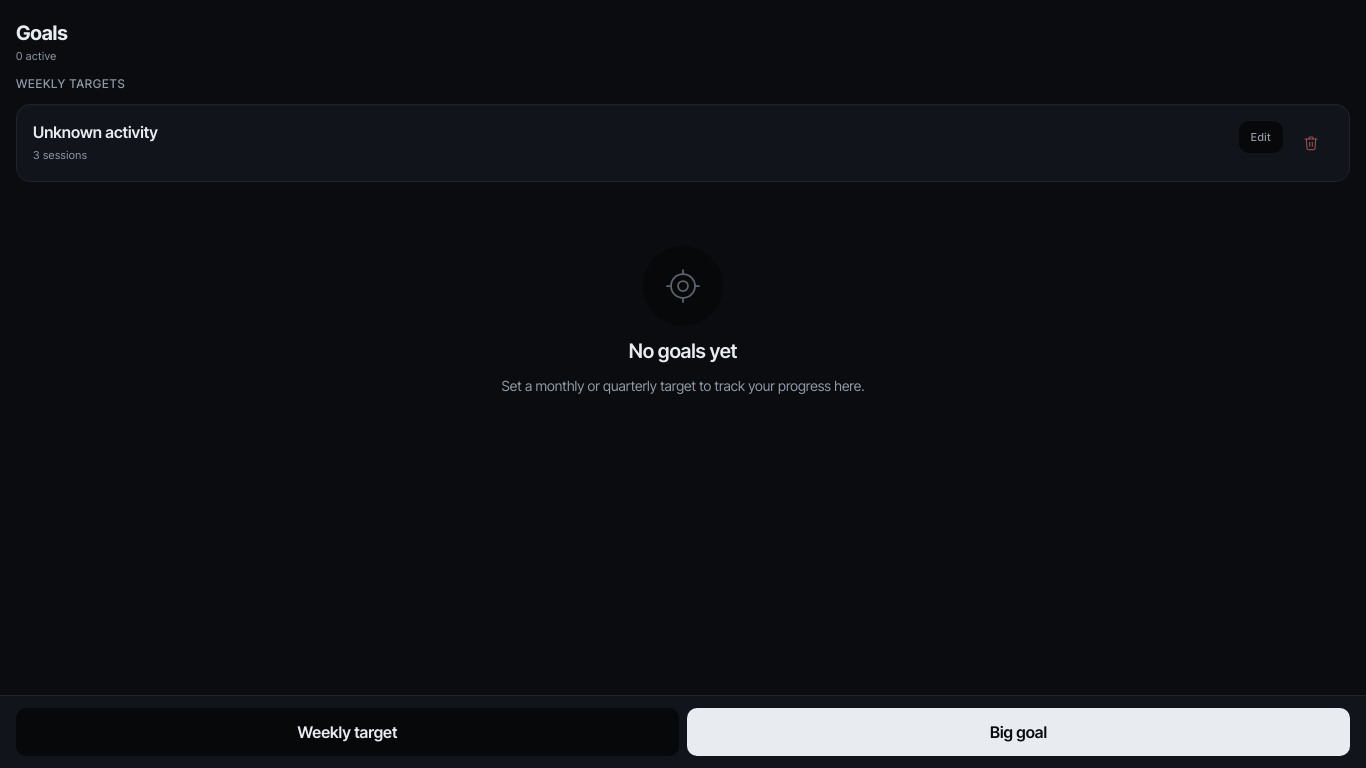
Test: GoalsScreen: weekly target row delete trigger › the inline "Confirm" button (not icon) appears in confirm state
Click the button named "Delete Unknown activity target": (1311, 143) x1=1289 y1=121 x2=1333 y2=165
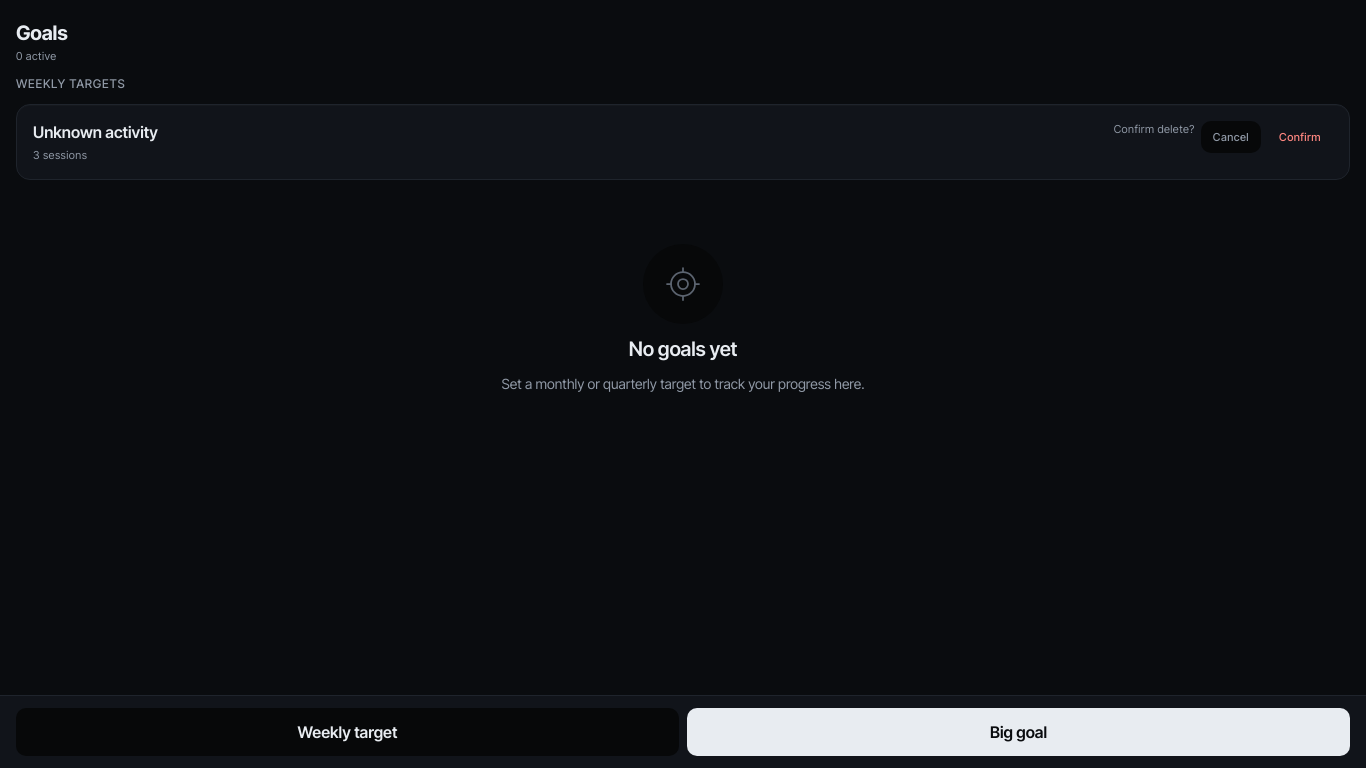
Now the button "Confirm" is shown, box x1=1267 y1=121 x2=1333 y2=153
